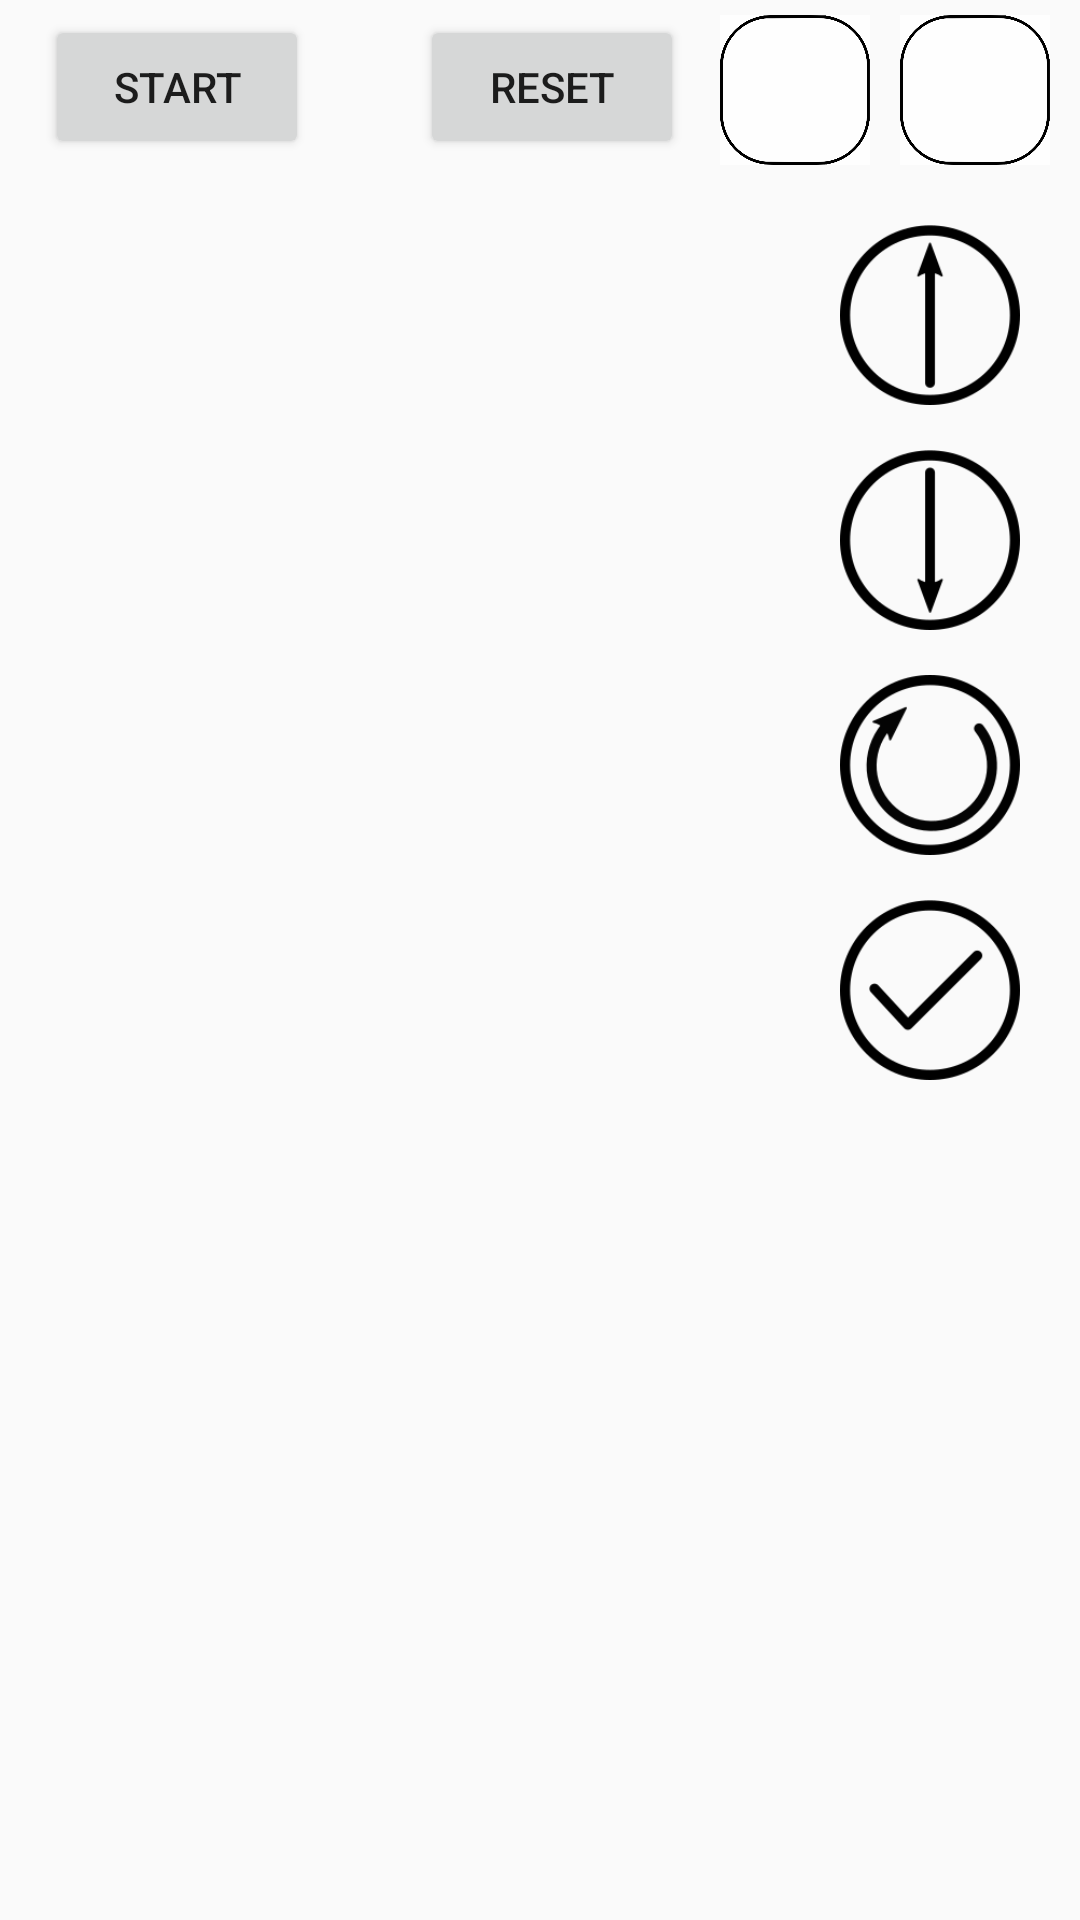

Named icons in this screenshot (1080 × 1920) and their bounding boxes, {"left": x1, "top": y1, "right": x2, "bottom": y2}:
down: {"left": 840, "top": 450, "right": 1020, "bottom": 630}
rotate: {"left": 840, "top": 675, "right": 1020, "bottom": 855}
